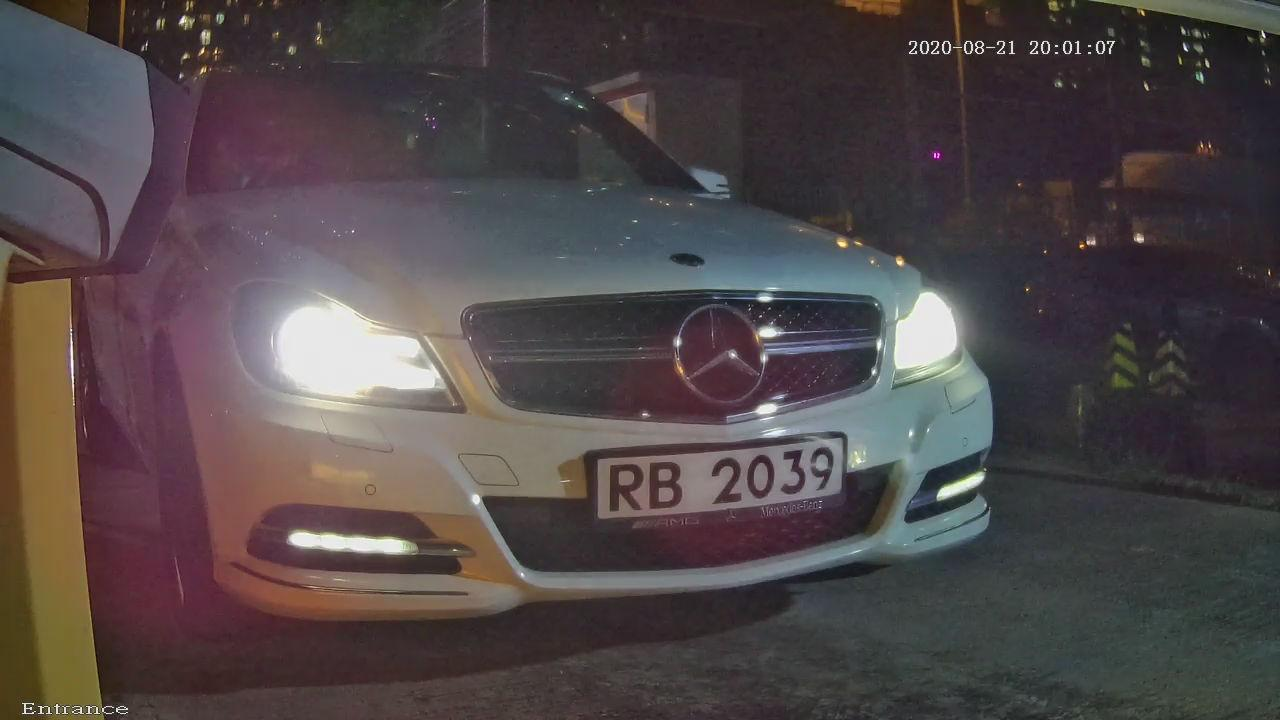Car: (23, 4, 1103, 679)
License Plate: (540, 361, 896, 552)
